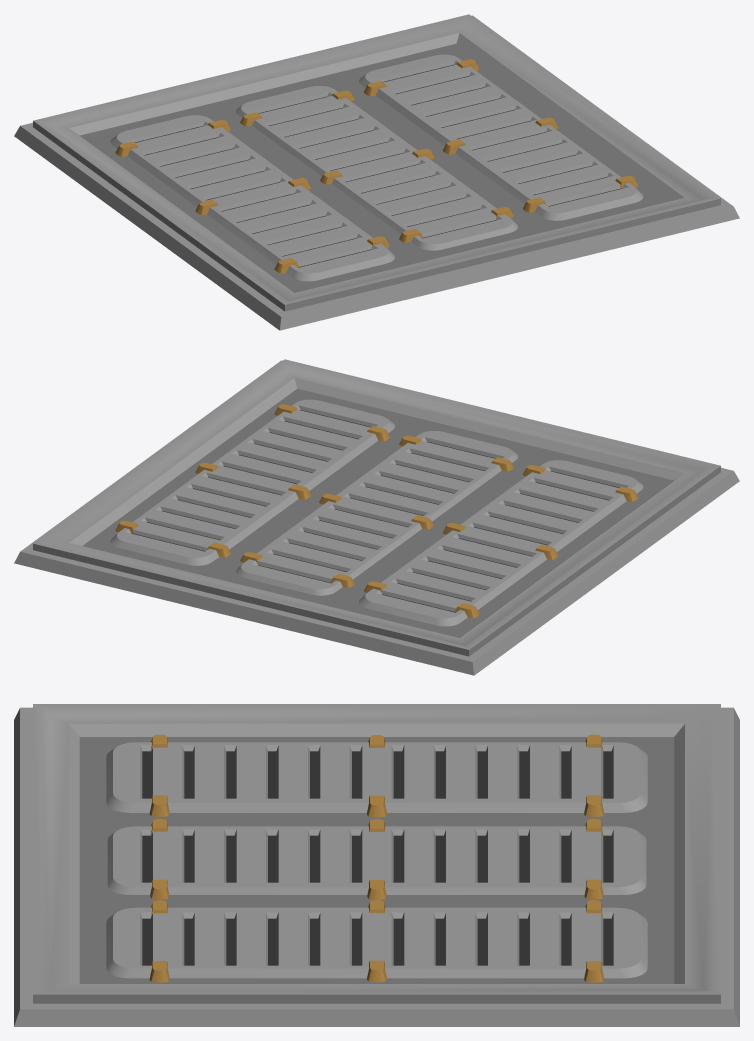
The model's file is quaternius-modular-sci-fi-roof-tile-vents.glb.
3 views of the same model, one above another, from view 1: azimuth 30°, elevation 25°; view 2: azimuth 150°, elevation 25°; view 3: azimuth 270°, elevation 25° (orthographic). The views are drawn at different scales.
Visible parts, largest first — view 1: RoofTile_Vents; view 2: RoofTile_Vents; view 3: RoofTile_Vents.
Boxes of the visible parts, left/top/right/bottom form: RoofTile_Vents: left=14, top=14, right=739, bottom=330; RoofTile_Vents: left=14, top=359, right=739, bottom=675; RoofTile_Vents: left=14, top=704, right=739, bottom=1026.
Bounding box in the file's own units: 2 × 0.0774 × 2.
